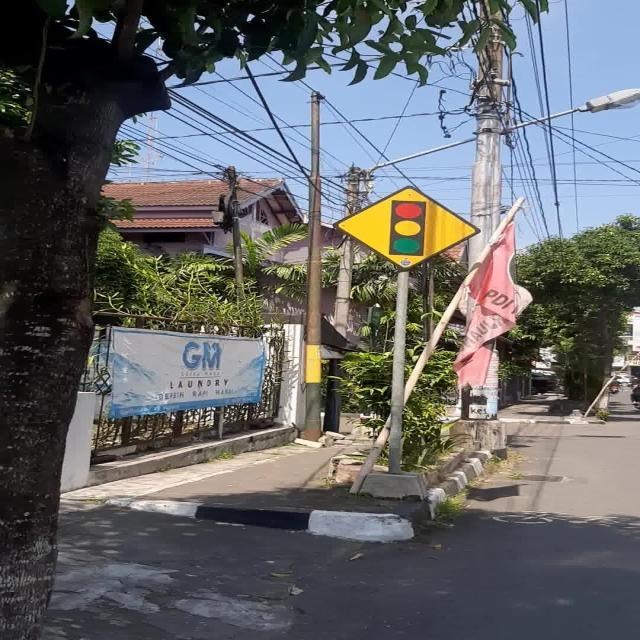Lampu Lalu Lintas: (333, 186, 481, 270)
